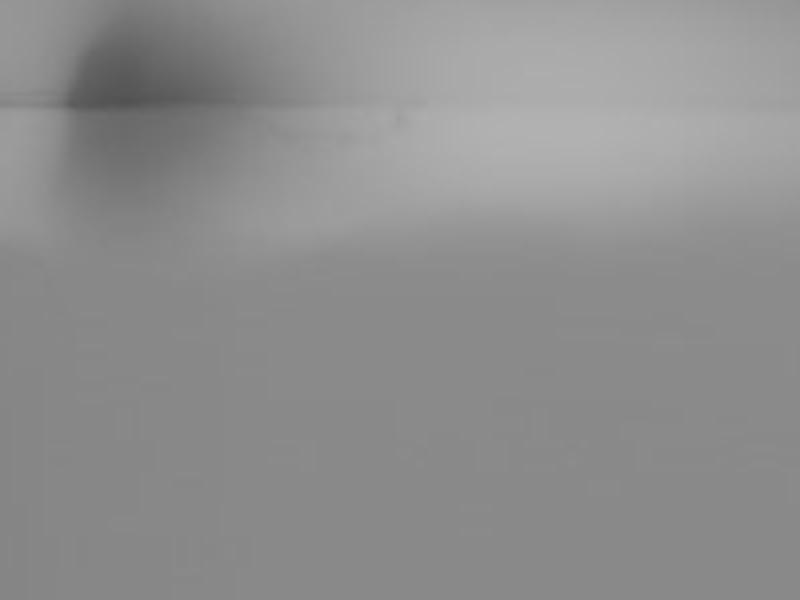defect: (75, 37, 235, 173)
